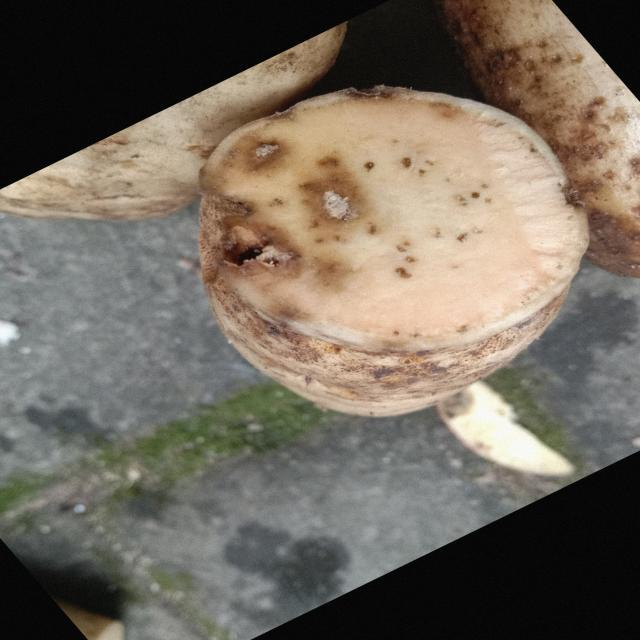Sick Sweet Potato_Tuber Rot: (200, 88, 588, 349)
